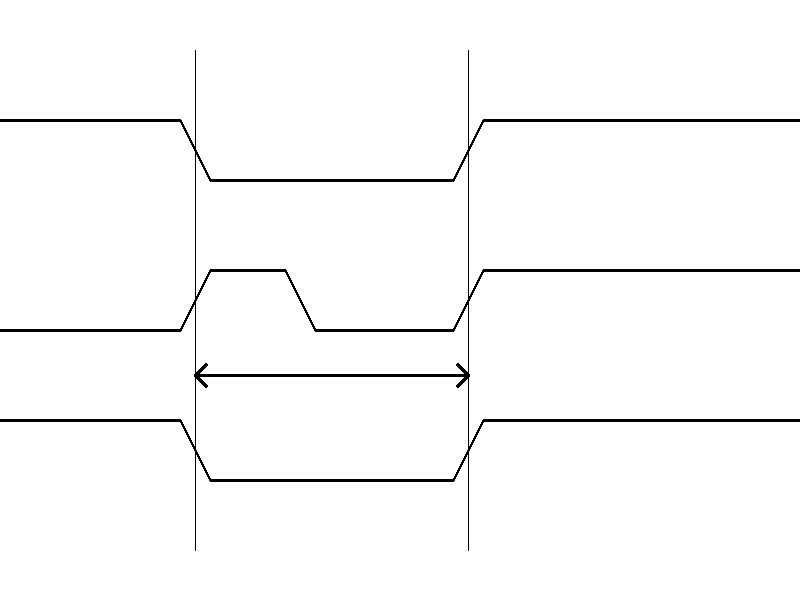double_arrow: (195, 360, 468, 390)
